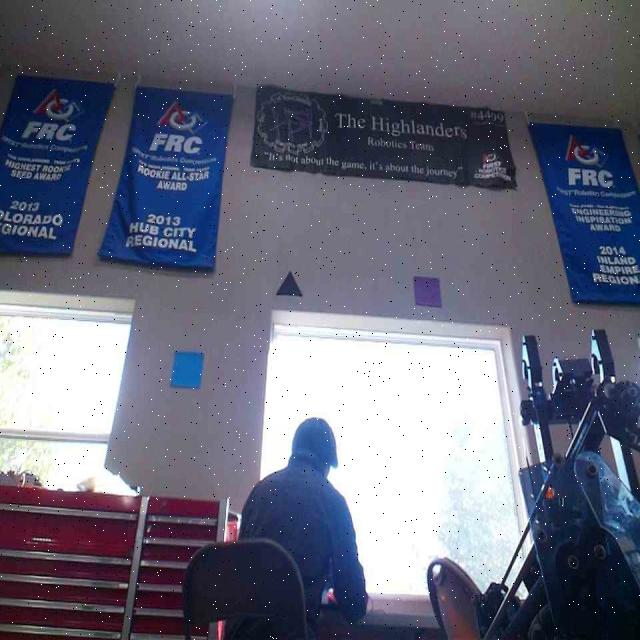square_blue: (169, 350, 206, 388)
square_purple: (410, 276, 442, 305)
triangle_black: (276, 271, 303, 296)
